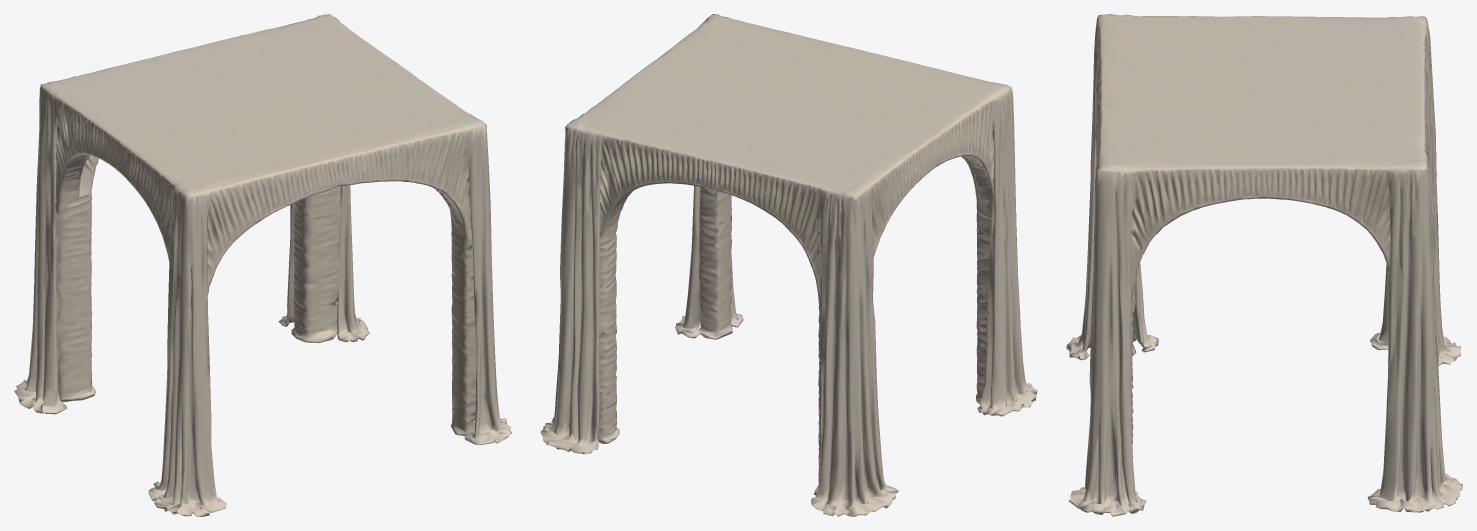
File: chuppah-ruched-ivory.glb
3 renders of one model, left to right at view 1: azimuth 30°, elevation 25°; view 2: azimuth 150°, elevation 25°; view 3: azimuth 270°, elevation 25°, orthographic. The views are drawn at different scales.
Visible parts, largest first — view 1: tripo_node_e1084d4e-60a6-497b-a833-8186bc9e0401; view 2: tripo_node_e1084d4e-60a6-497b-a833-8186bc9e0401; view 3: tripo_node_e1084d4e-60a6-497b-a833-8186bc9e0401.
Part boxes in pixels (x1,y1,x2,y2): tripo_node_e1084d4e-60a6-497b-a833-8186bc9e0401: (14,14,511,516); tripo_node_e1084d4e-60a6-497b-a833-8186bc9e0401: (540,14,1037,516); tripo_node_e1084d4e-60a6-497b-a833-8186bc9e0401: (1066,14,1462,516).
Bounding box in the file's own units: 3.16 × 2.7 × 2.89.
1 material, 1 textured.
